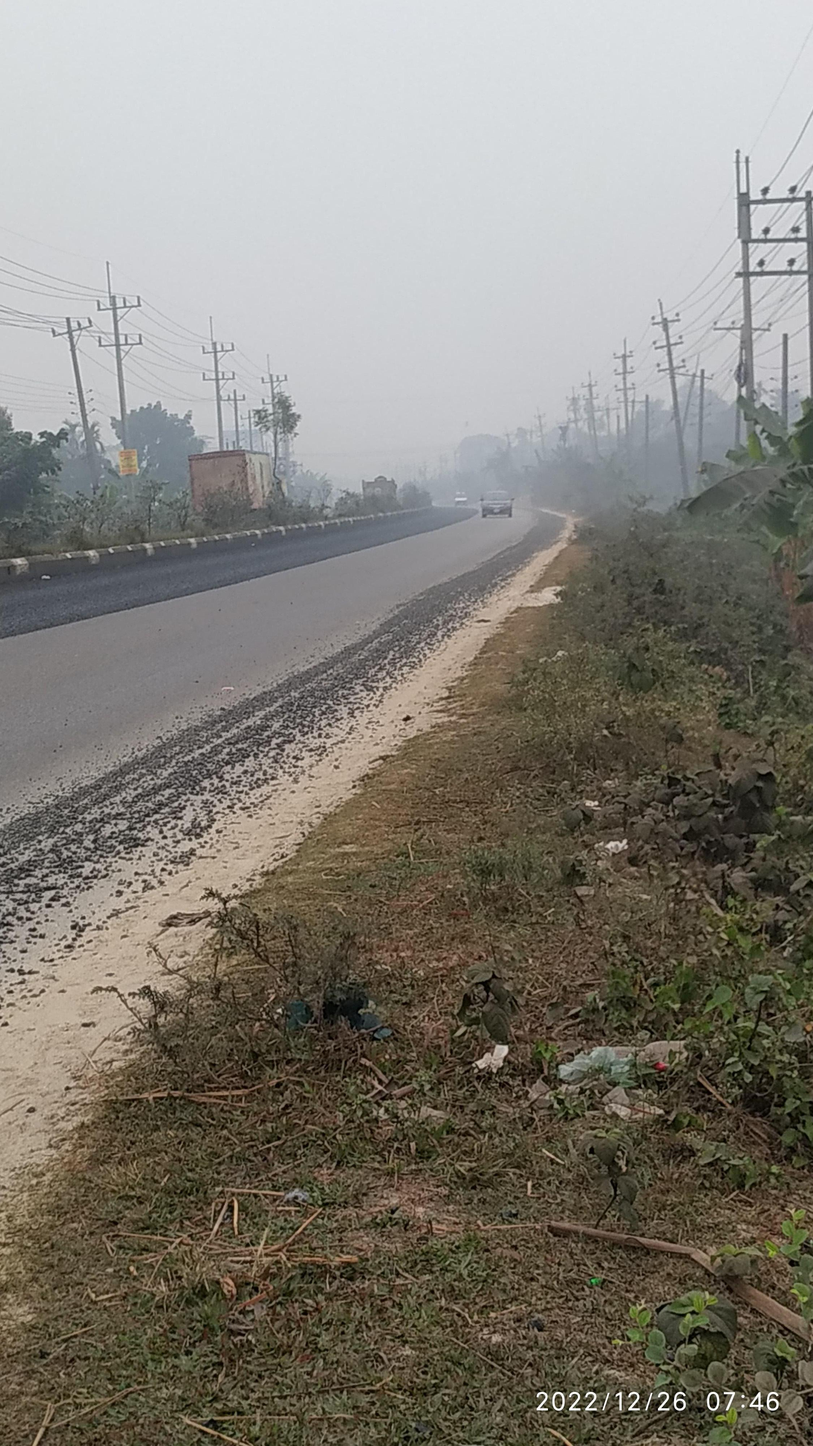Car: (468, 483, 519, 533)
Truck: (177, 434, 304, 526), (355, 470, 412, 513)
